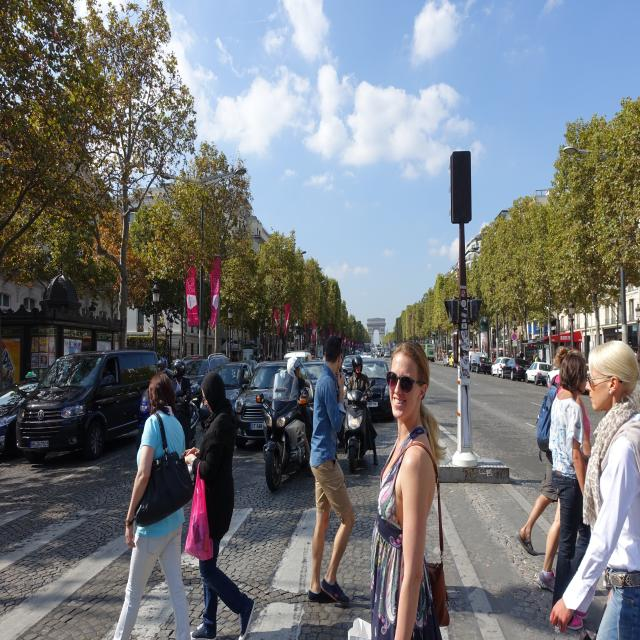body: (545, 336, 640, 640), (369, 339, 450, 640), (112, 370, 194, 640), (180, 369, 258, 639), (307, 332, 357, 606), (516, 344, 576, 556), (550, 350, 590, 630), (550, 350, 588, 597), (350, 581, 518, 617), (344, 354, 380, 466), (282, 357, 314, 478), (170, 360, 192, 451), (32, 338, 48, 367), (157, 358, 173, 380), (100, 363, 113, 385), (2, 371, 15, 390), (228, 352, 242, 363), (532, 354, 538, 374), (274, 351, 284, 362), (259, 352, 268, 363), (552, 353, 556, 365), (492, 349, 498, 357), (634, 350, 638, 361), (171, 355, 179, 360), (520, 350, 524, 359), (542, 357, 546, 365), (535, 352, 538, 362), (517, 350, 520, 360), (505, 350, 508, 359), (510, 352, 514, 358), (257, 353, 259, 365), (517, 351, 520, 358), (269, 354, 272, 360), (254, 354, 257, 360), (502, 350, 504, 356), (499, 351, 501, 356), (519, 350, 522, 353)
